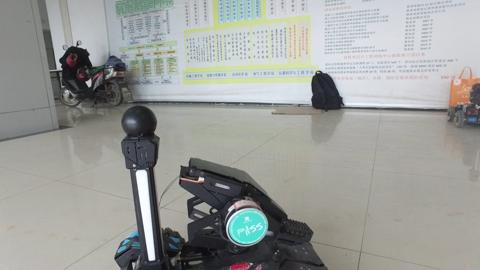bag: (308, 68, 347, 114), (448, 63, 480, 110)
chariot: (107, 103, 329, 270)
